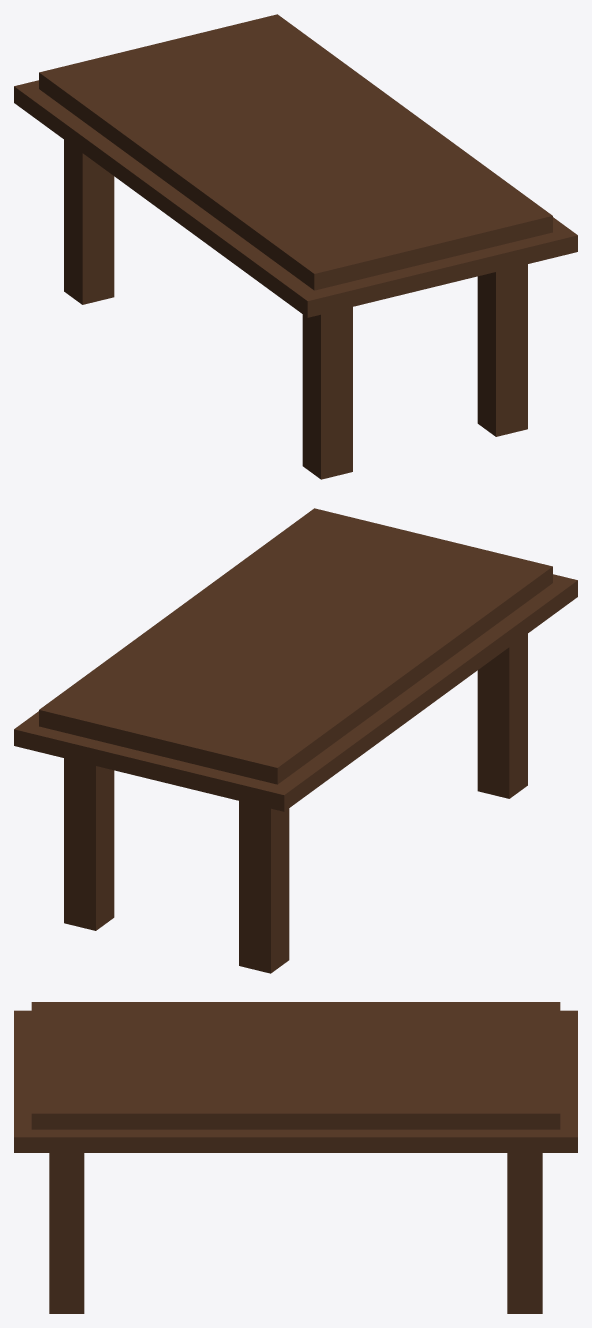
Rendered from STOLKA.obj.
The picture shows the model from 3 angles, top to bottom: view 1: azimuth 30°, elevation 25°; view 2: azimuth 150°, elevation 25°; view 3: azimuth 270°, elevation 25°; orthographic projection. The views are drawn at different scales.
Parts seen in each view (by area): view 1: Стол; view 2: Стол; view 3: Стол.
Part boxes in pixels (x1,y1,x2,y2): Стол: (14,14,577,479); Стол: (14,508,577,973); Стол: (14,1002,577,1313).
Size of the model in its own units: 1.7 by 1.3 by 3.2.
Materials: 1 (1 with a texture image).
